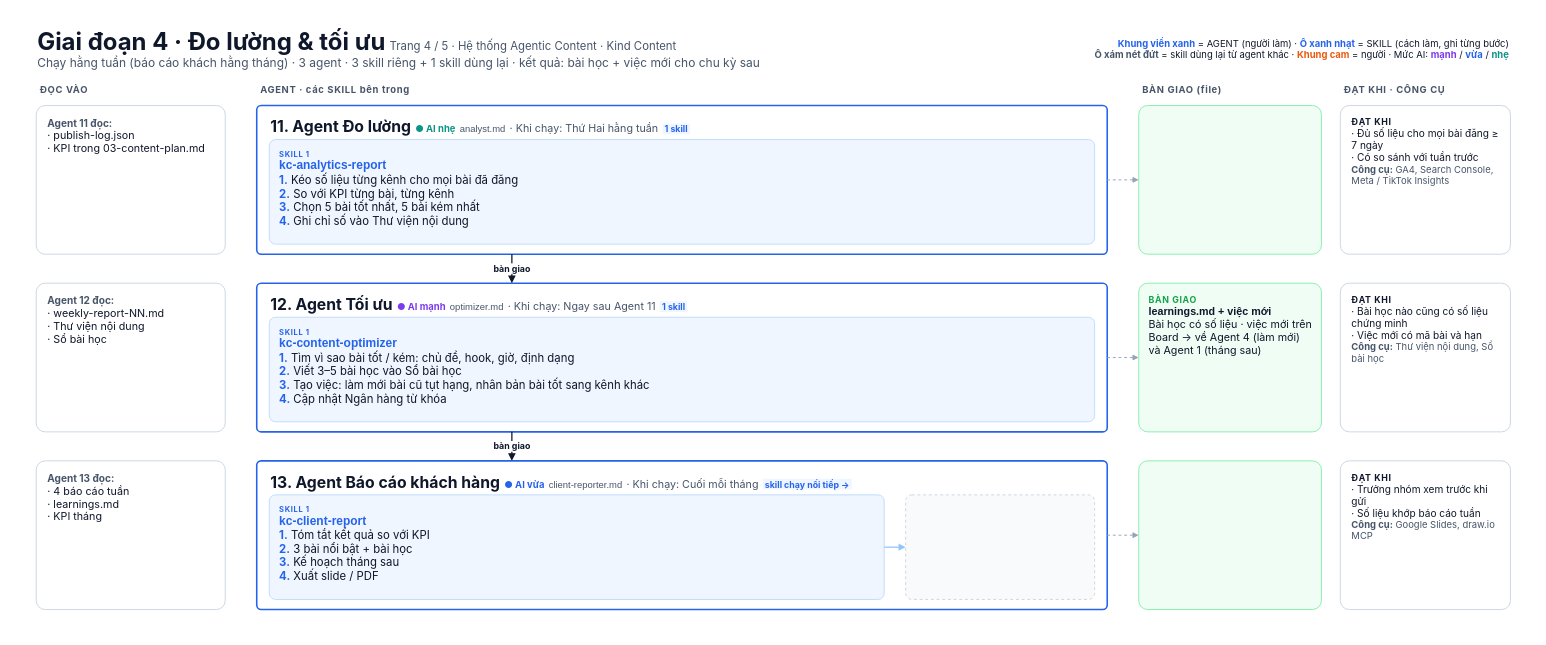
Image size: 1546x645. Some labels were removed from this diagram. The centre of each missing label's shape, as x and y in pixels:
BÀN GIAO client-report-MM.pdf Báo cáo tháng gửi khách: (x=1230, y=535)
BÀN GIAO weekly-report-NN.md Bảng KPI · top 5 / bottom 5 · giờ đăng tốt nhất: (x=1230, y=179)
SKILL DÙNG LẠI kc-drawio-diagram 1. Vẽ sơ đồ kết quả, phễu traffic: (x=1000, y=547)
